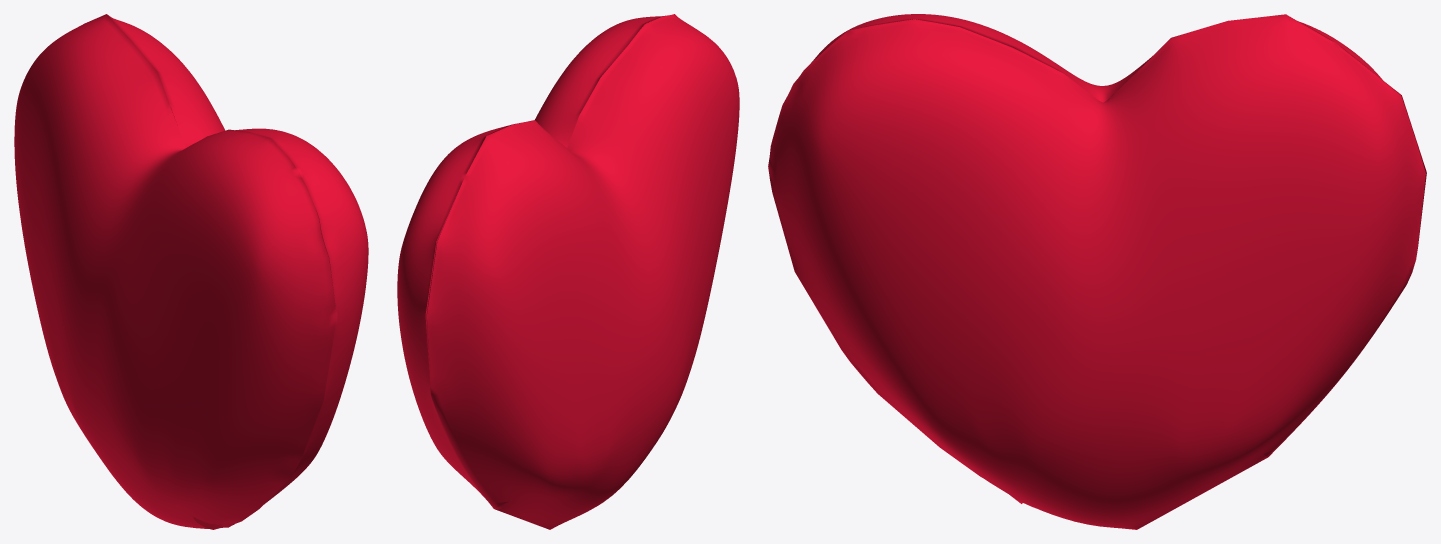
File: herz_grob.fbx
3 views of the same model, side by side, from view 1: azimuth 30°, elevation 25°; view 2: azimuth 150°, elevation 25°; view 3: azimuth 270°, elevation 25° (orthographic). The views are drawn at different scales.
Visible parts, largest first — view 1: herz; view 2: herz; view 3: herz.
Part boxes in pixels (bbox=[...]): herz: bbox=[14, 14, 368, 529]; herz: bbox=[397, 14, 739, 529]; herz: bbox=[768, 14, 1426, 529].
Size of the model in its own units: 92.16 by 213 by 247.
